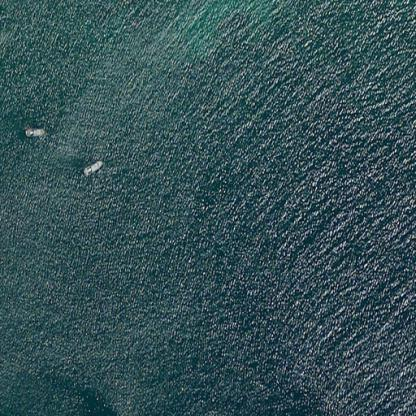ship: (201, 364, 215, 405), (28, 286, 38, 321)
